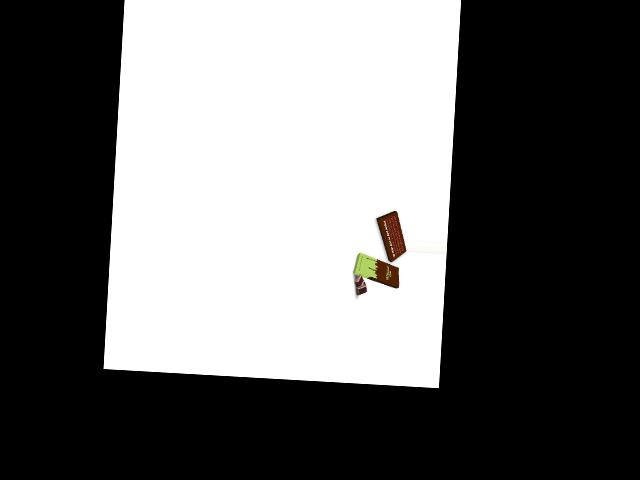chocolate: (351, 254, 401, 285)
